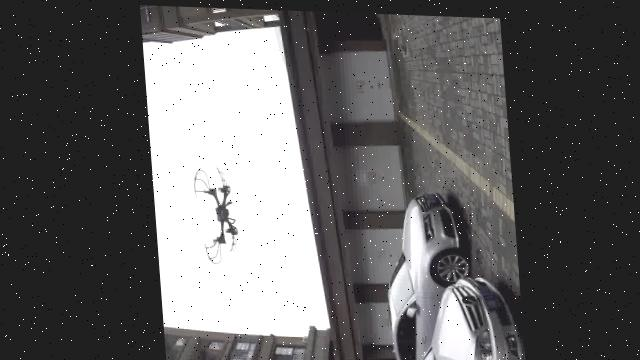drone: (172, 149, 251, 294), (179, 156, 249, 268)
